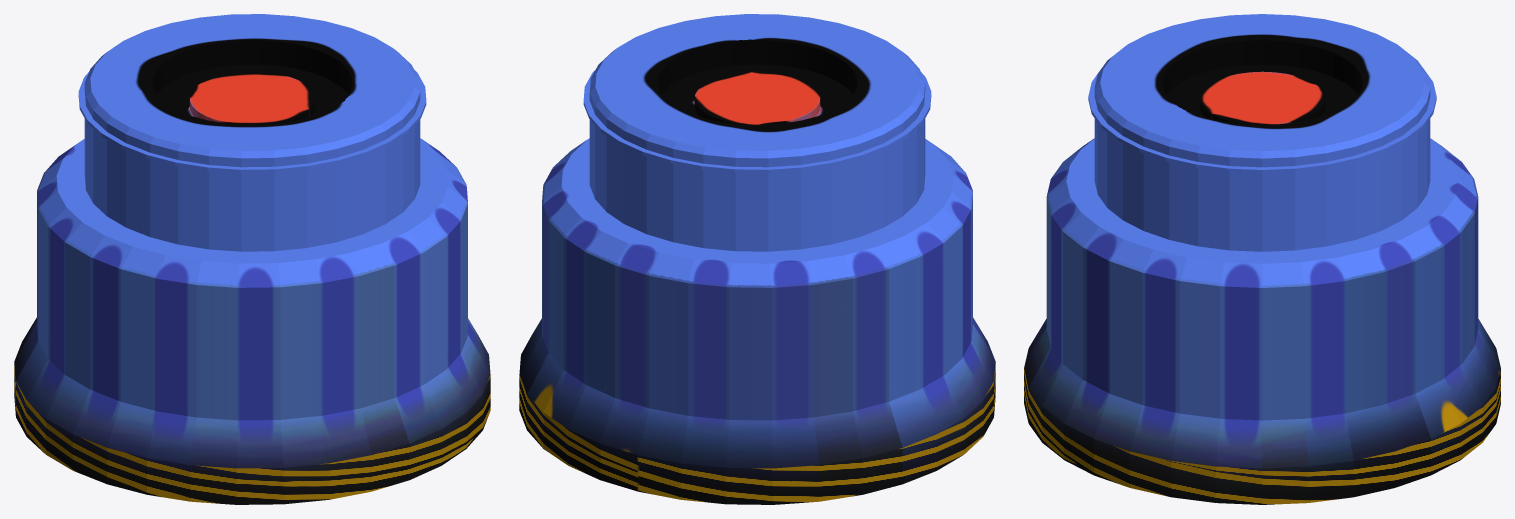
The model's file is Generator.fbx.
3 renders of one model, left to right at view 1: azimuth 30°, elevation 25°; view 2: azimuth 150°, elevation 25°; view 3: azimuth 270°, elevation 25°, orthographic.
Parts seen in each view (by area): view 1: Cylinder; view 2: Cylinder; view 3: Cylinder.
Part boxes in pixels (<box>): Cylinder: <box>14,14,490,504</box>; Cylinder: <box>519,14,995,504</box>; Cylinder: <box>1024,14,1500,504</box>.
Bounding box in the file's own units: 796 × 593 × 796.
